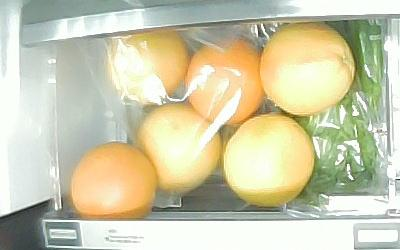grapefruit: (260, 22, 357, 117), (222, 112, 317, 208), (68, 140, 157, 220)
grapefruit_vinyl: (135, 102, 221, 195), (188, 36, 266, 125), (104, 28, 187, 106)
